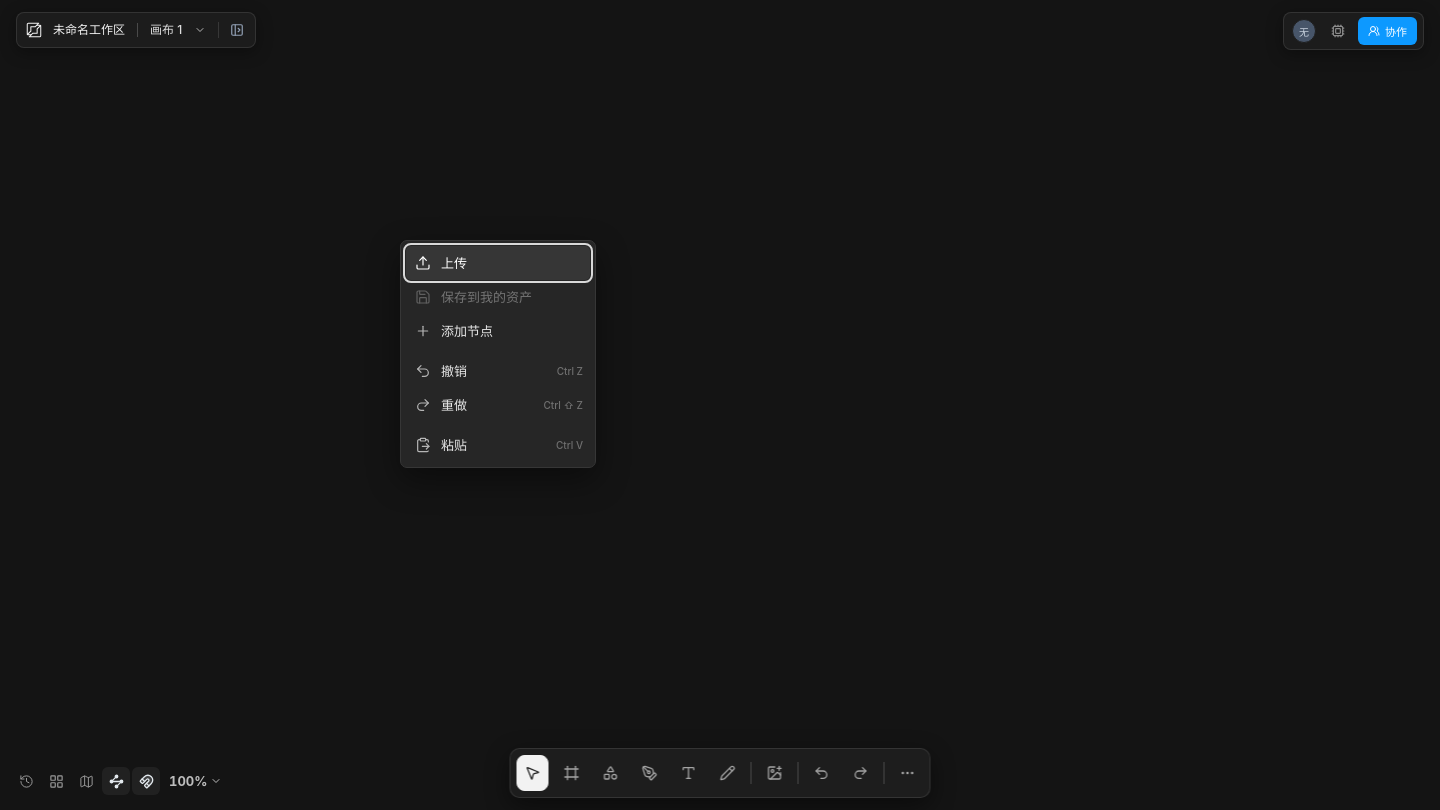
Test: canvas application integration › uses the first blank-canvas action only to dismiss an open context menu
Earlier steps of the test are not shown.
Double-click the element with class "react-flow__pane".
double_click(720, 405)  # box top-left (0, 0), bottom-right (1439, 809)
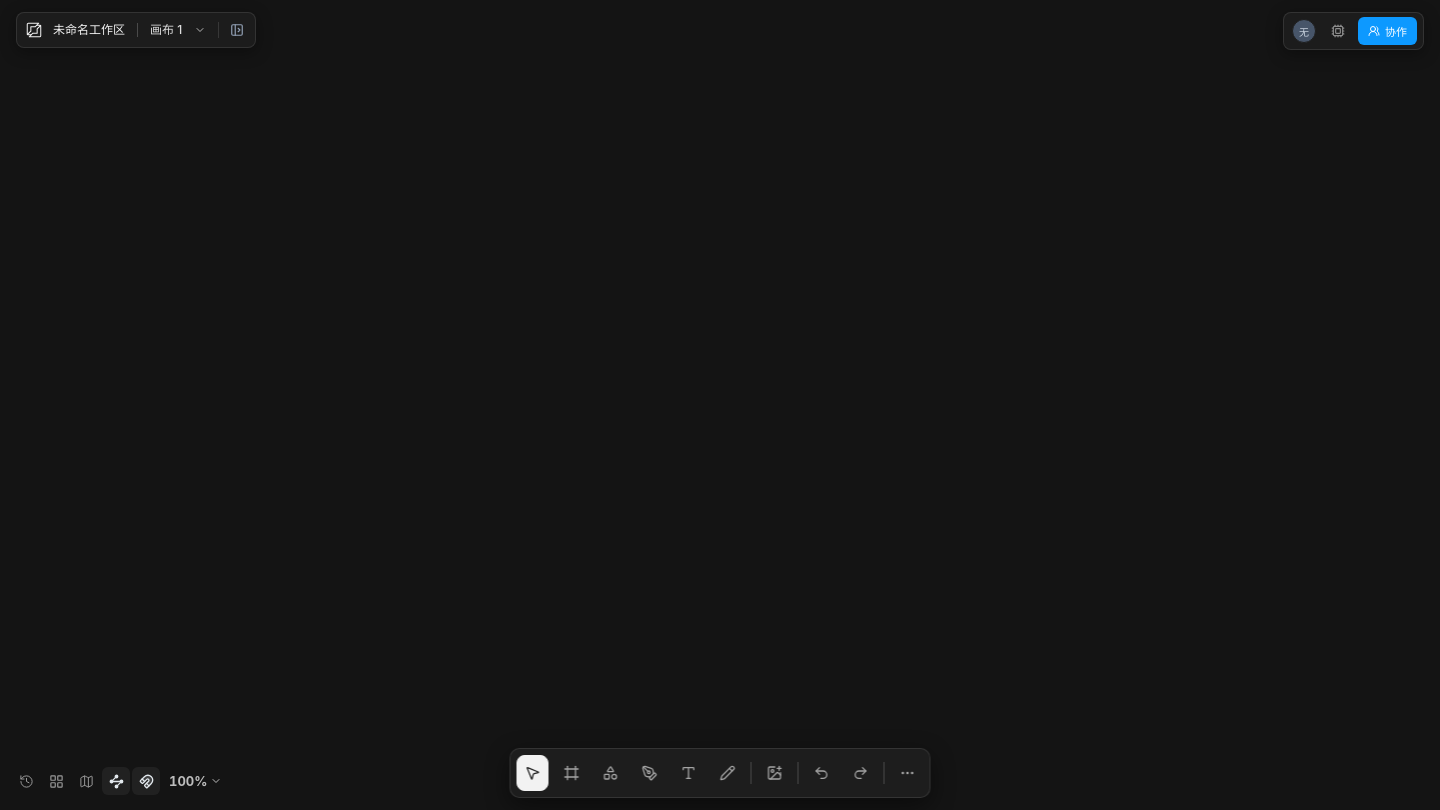
Expected: the menu "画布快捷菜单" is gone
Expected: the menu item "添加节点" is gone
Right-click the element with class "react-flow__pane".
right_click(720, 405)  # box top-left (0, 0), bottom-right (1439, 809)
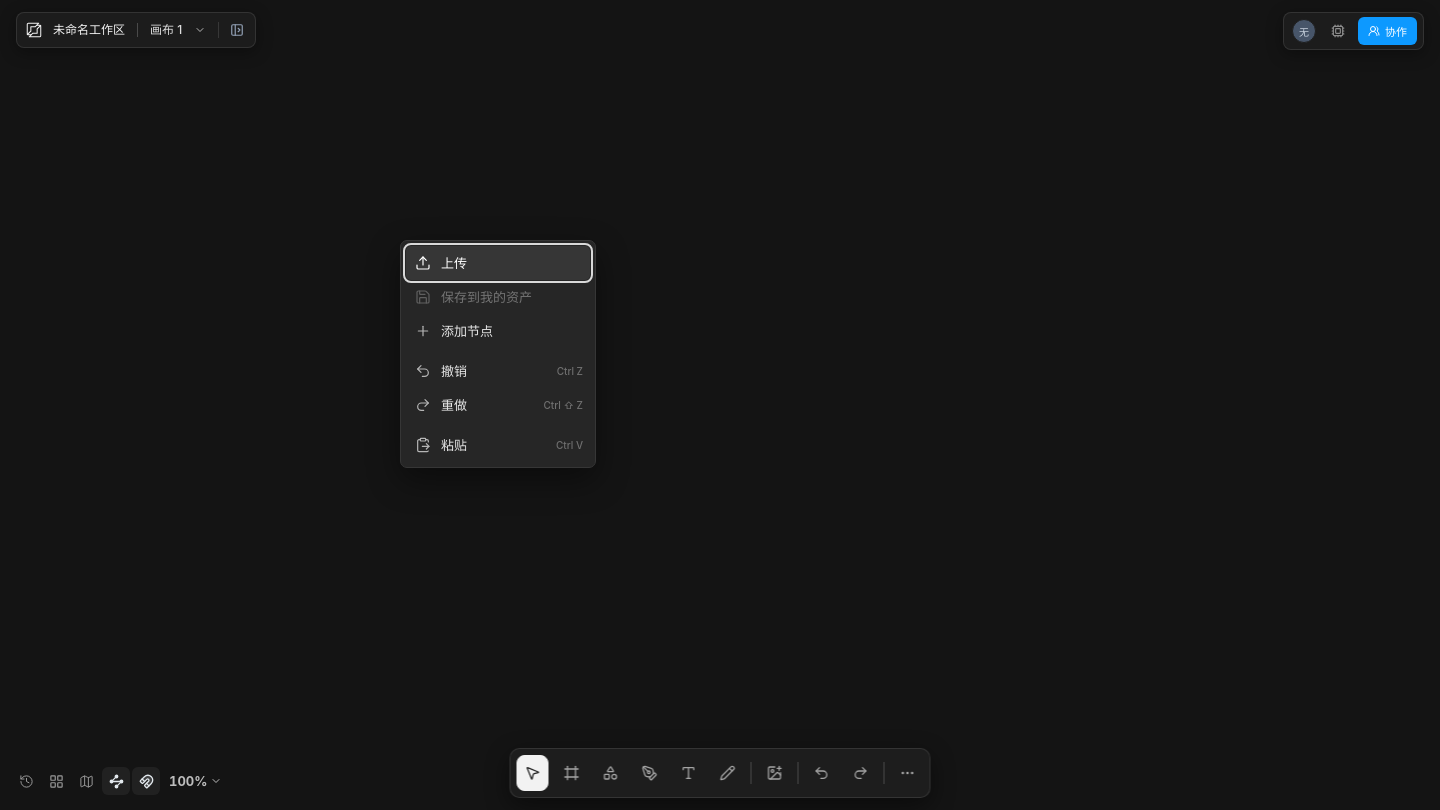
Click the element with class "react-flow__pane".
click(720, 405)  # box top-left (0, 0), bottom-right (1439, 809)
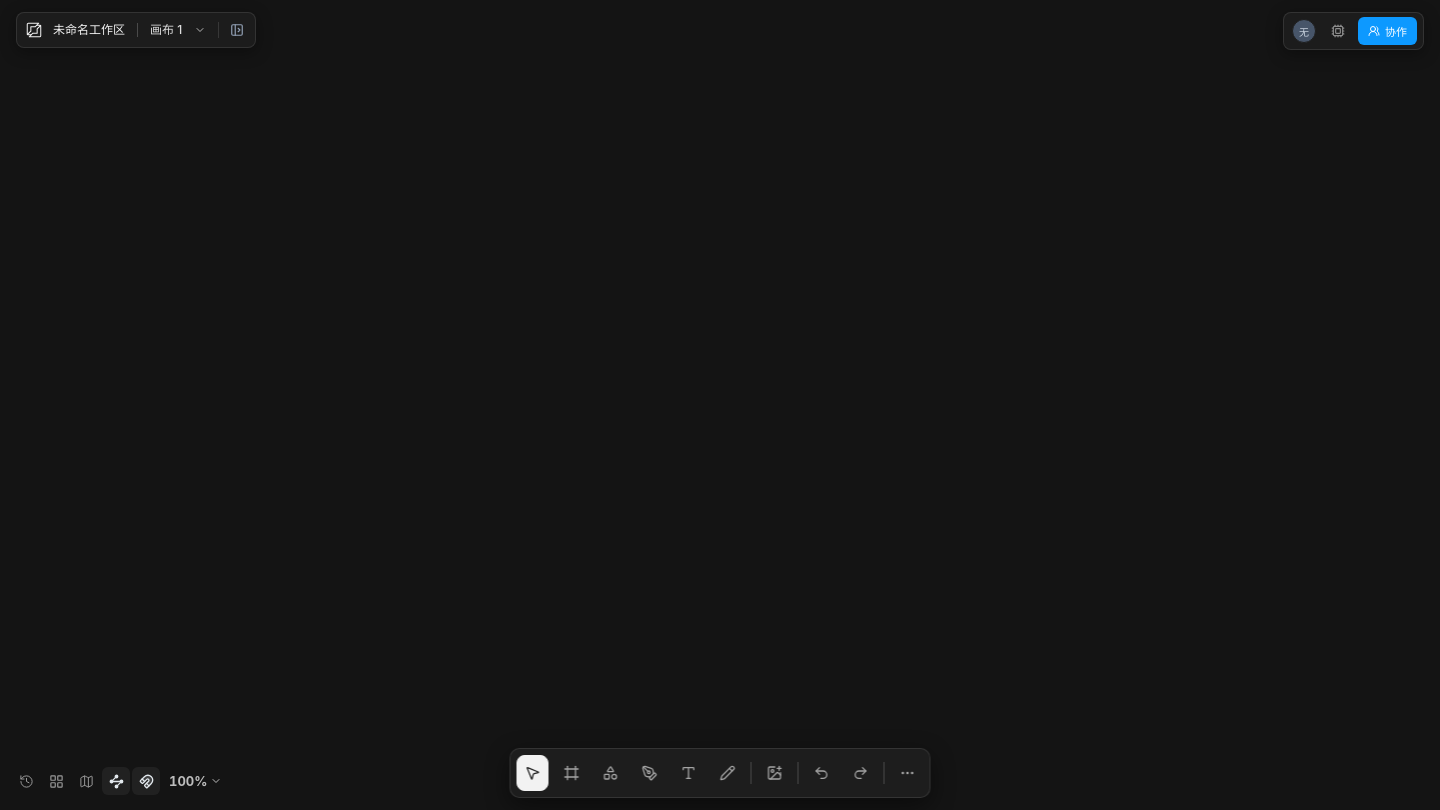
Double-click the element with class "react-flow__pane".
double_click(720, 405)  # box top-left (0, 0), bottom-right (1439, 809)
Expected: the menu item "添加节点" is not shown
Right-click the element with class "react-flow__pane".
right_click(720, 405)  # box top-left (0, 0), bottom-right (1439, 809)
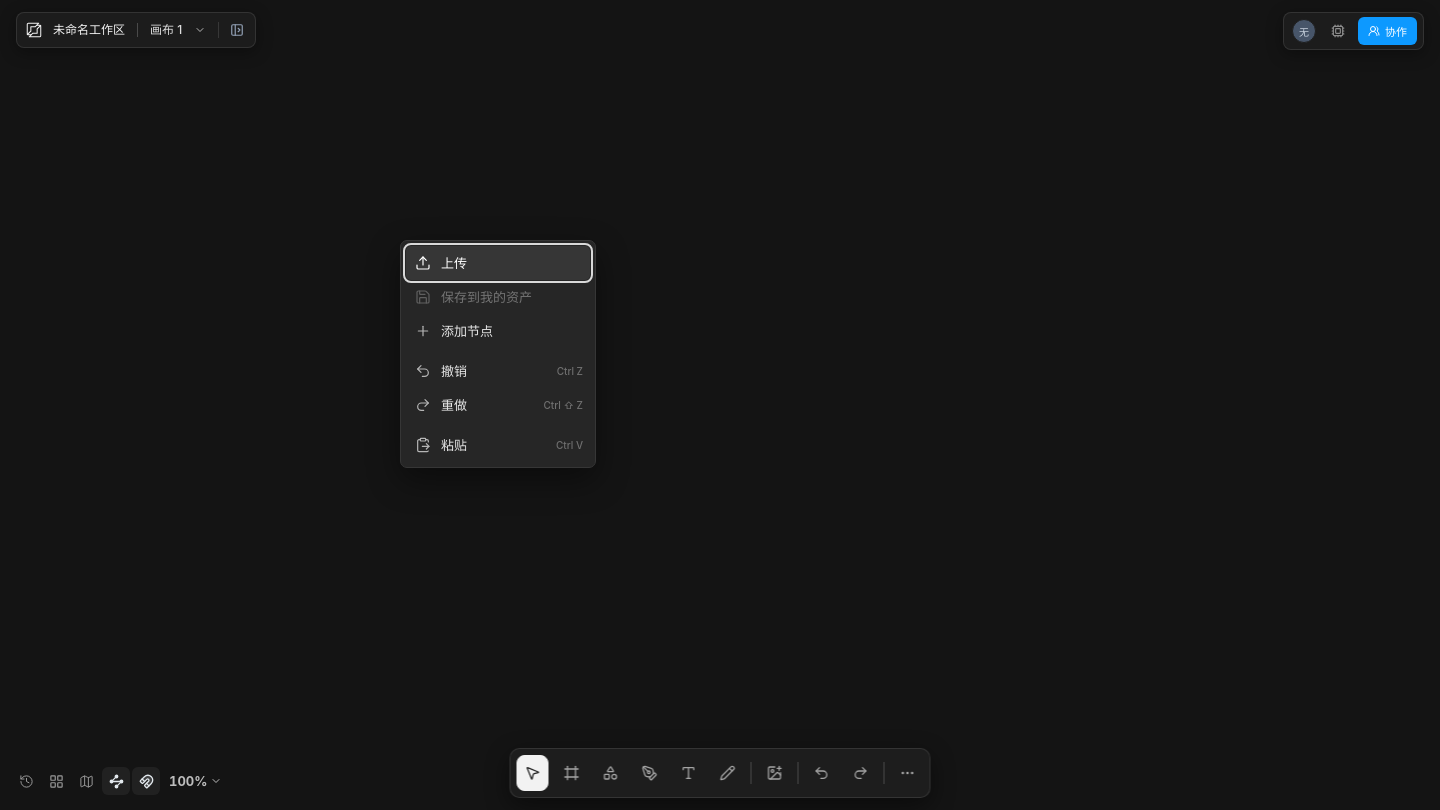
Right-click the element with class "react-flow__pane".
right_click(720, 405)  # box top-left (0, 0), bottom-right (1439, 809)
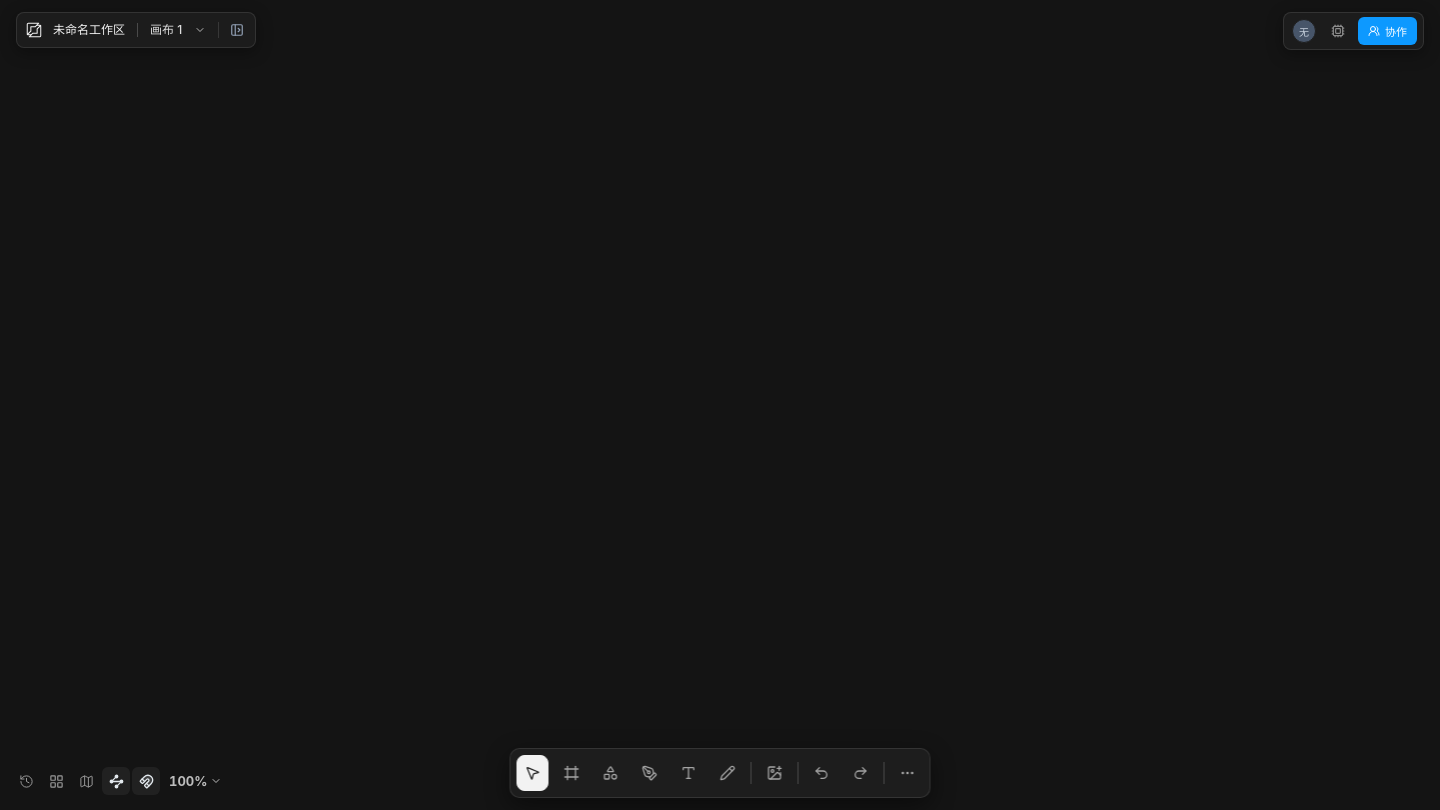
Expected: the menu "画布快捷菜单" is gone
Right-click the element with class "react-flow__pane".
right_click(720, 405)  # box top-left (0, 0), bottom-right (1439, 809)
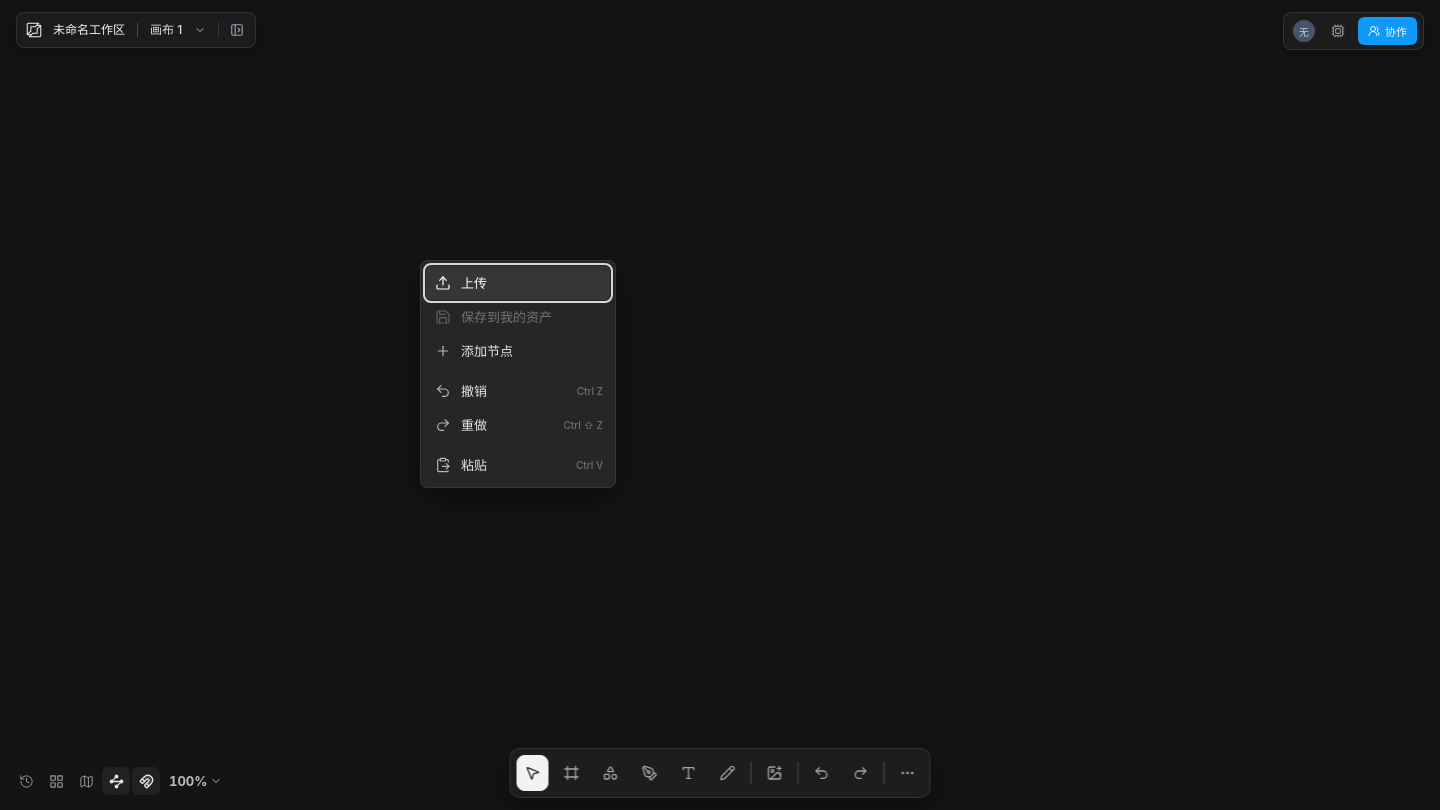
Expected: the menu named "画布快捷菜单" is shown, top-left (420, 260), bottom-right (616, 488)
